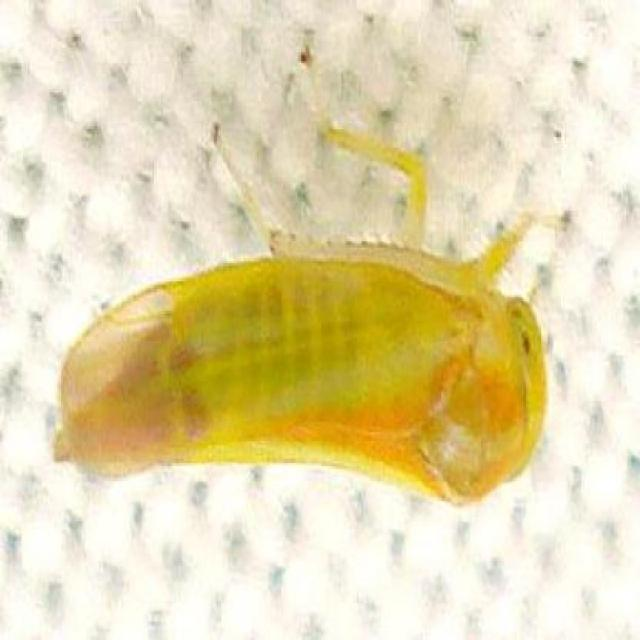green-leafhopper: (50, 240, 553, 514)
